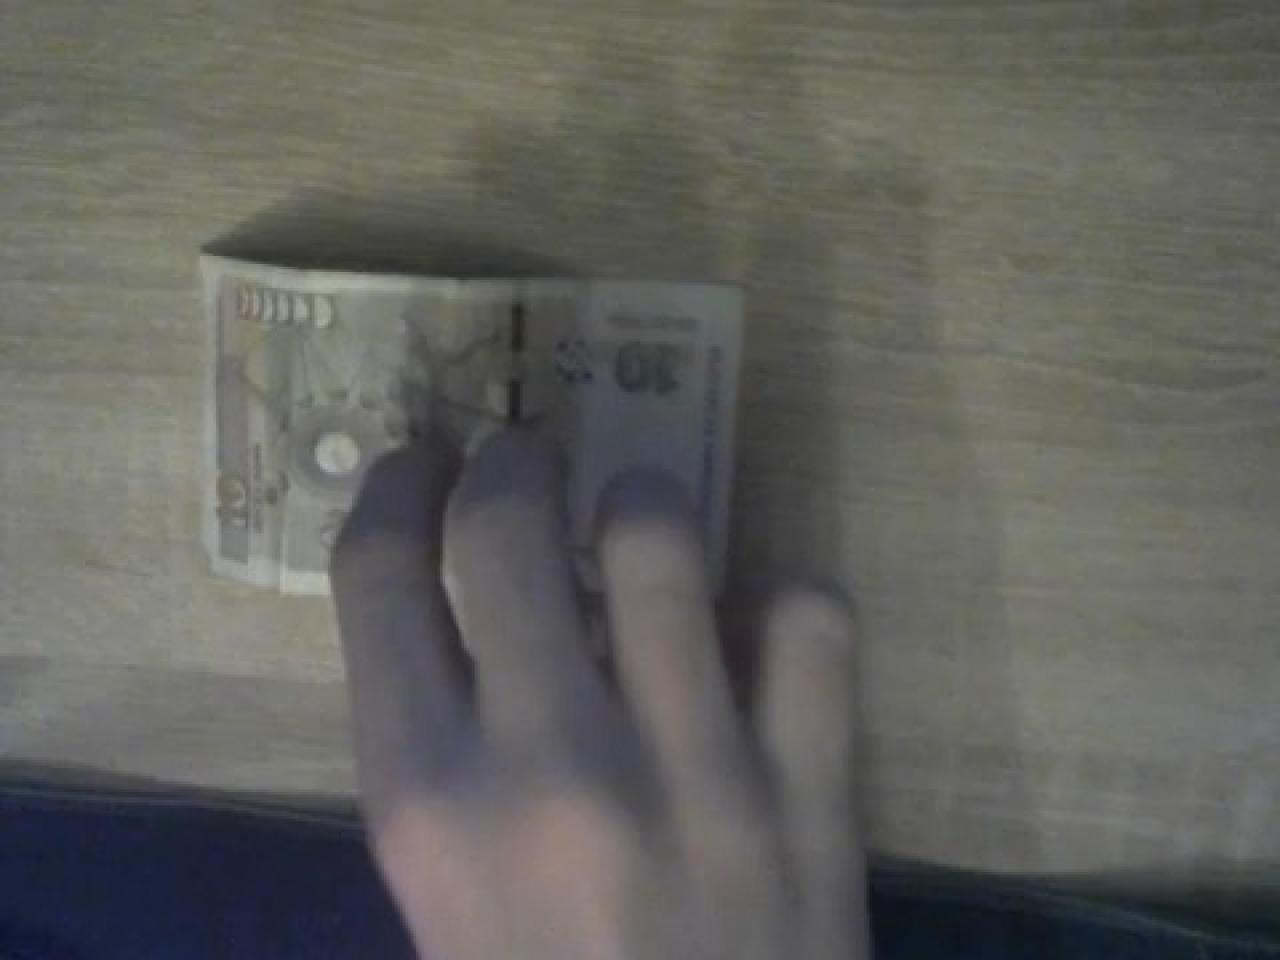10leva: (198, 251, 736, 595)
